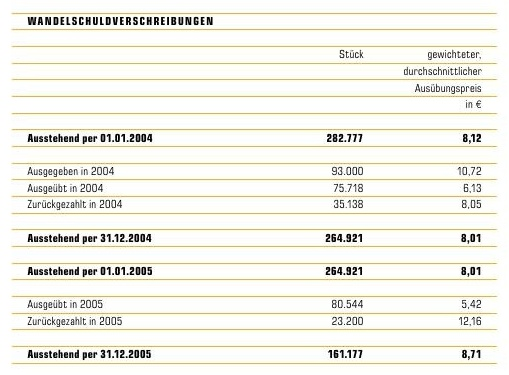table: (0, 0, 509, 375)
